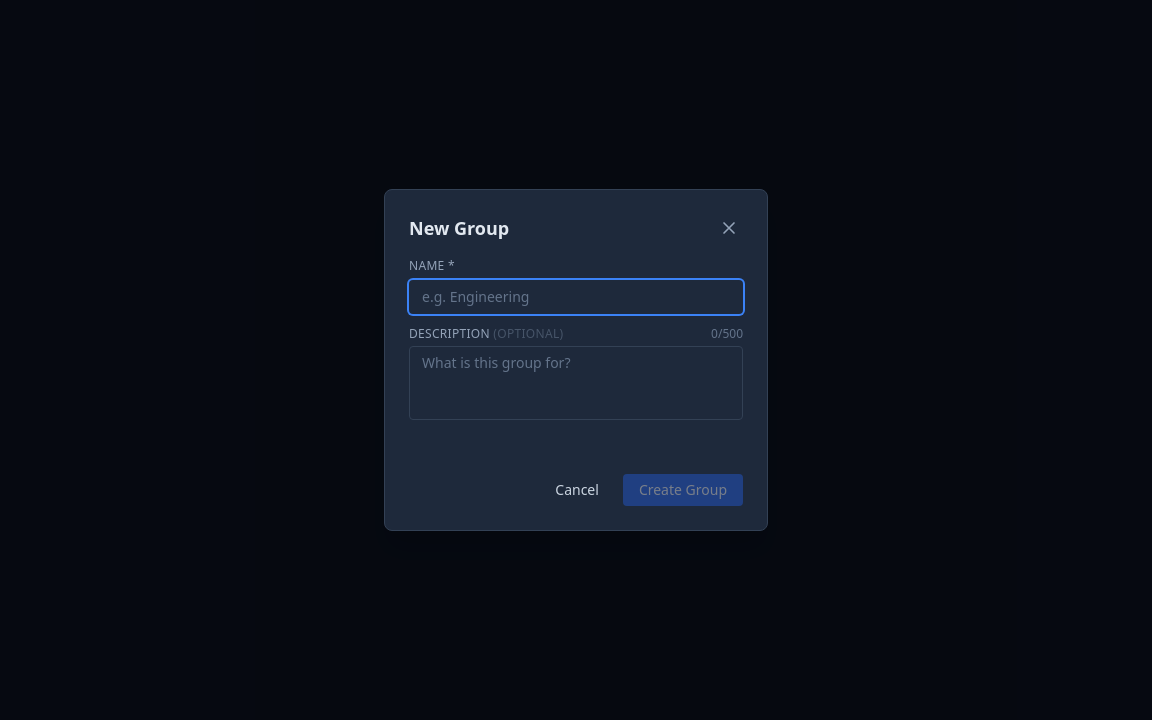
CreateGroupModal › enables the Create button once a non-whitespace name is entered
Type "Infra" into the field with placeholder "e.g. Engineering". click: point(576, 297)
box: [409, 280, 743, 314]
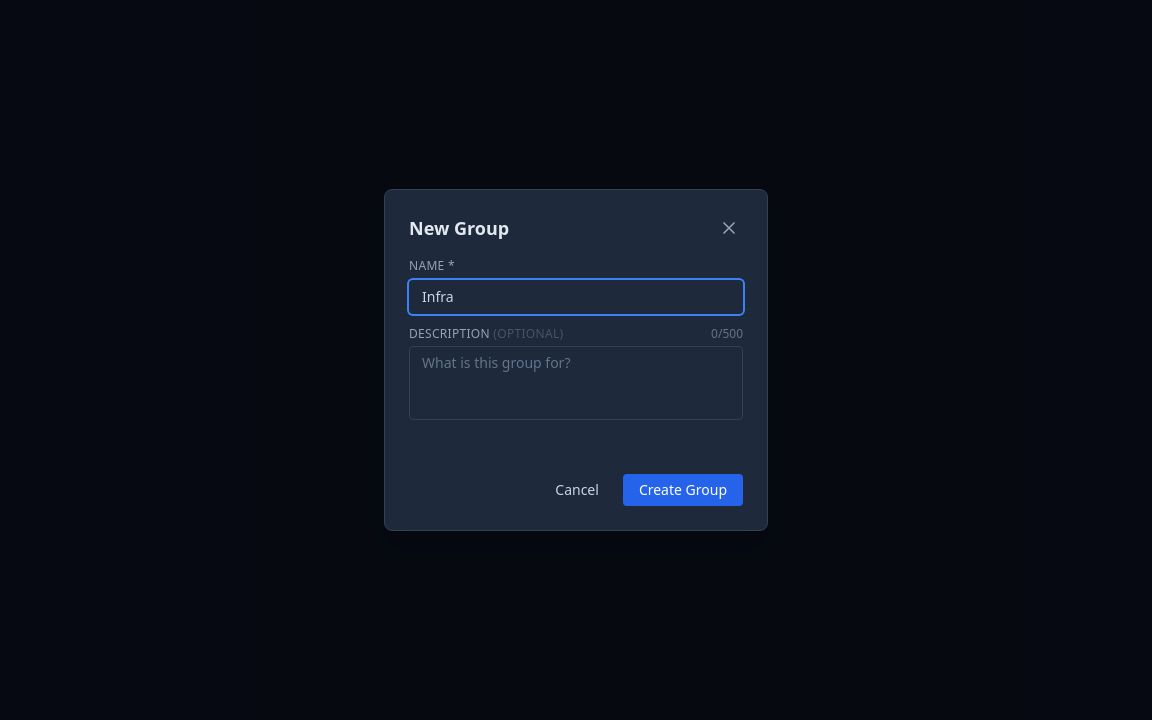
Check: the button "Create Group" is enabled, box [623, 474, 743, 506]
